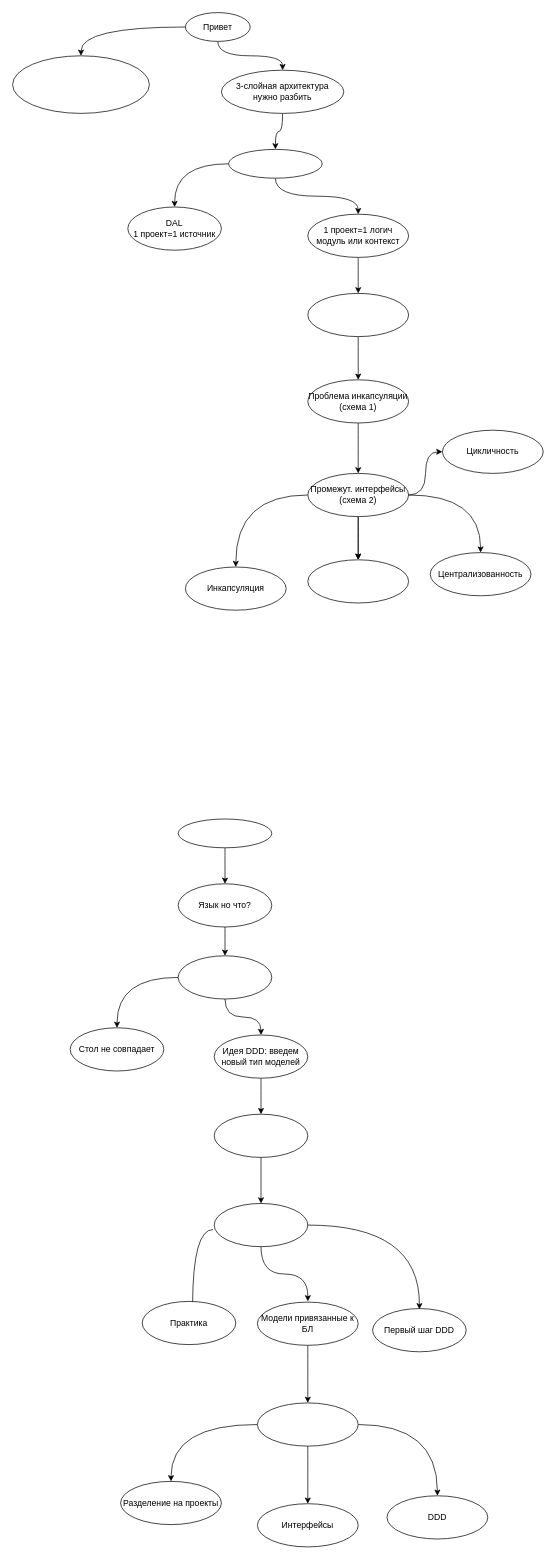
The diagram is 556 pixels wide and 1560 high, and some of its shapes have lost their labels. The box of each missing label's shape, as (x1, y1, x2, y2) in pixels:
UT: (307, 559, 409, 603)
Архитектура больших Сложность настает Большая проблема: (12, 55, 149, 113)
Итог: (257, 1402, 358, 1446)
Модели: (177, 818, 272, 848)
Но как?: (228, 149, 322, 178)
Общая схема: (213, 1203, 308, 1247)
Обычно 2 вида моделей: (177, 955, 272, 999)
Пример возможно с draw.io: (307, 293, 409, 337)
Пример с отделом: (213, 1113, 308, 1157)
